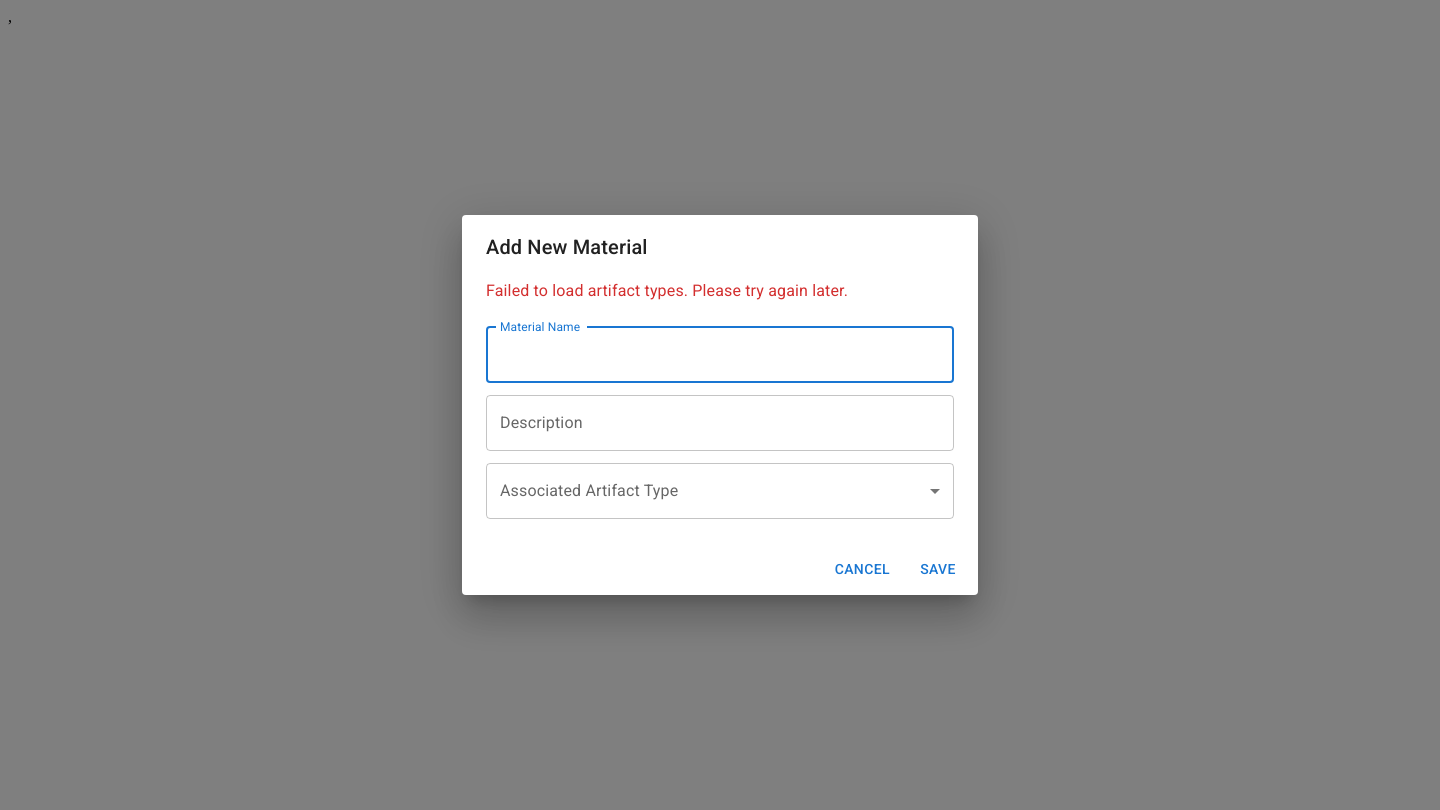
Scenario: AddMaterialDialog › validates inputs and displays error for empty required fields
The width and height of the screenshot is (1440, 810).
Note: Click save with empty fields
Click the button "Save" at (938, 569), box [906,551,970,587]
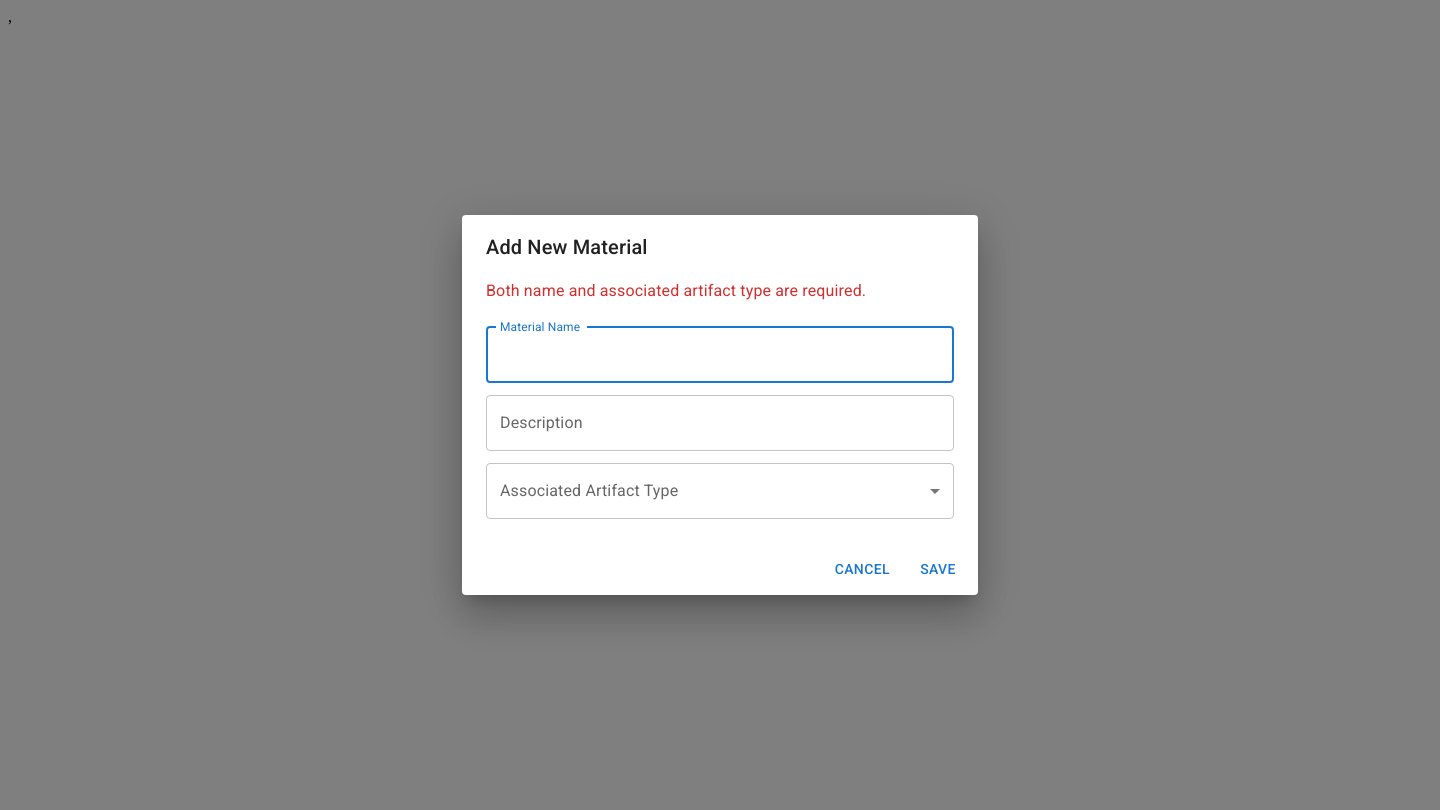
Now the text "Both name and associated artifact type are required." is shown, box [486,281,866,300]
